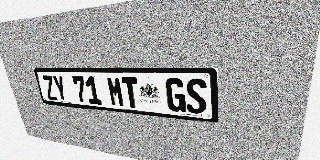1: (84, 76, 102, 105)
7: (71, 76, 89, 104)
G: (165, 78, 186, 113)
M: (106, 77, 125, 107)
S: (185, 78, 207, 115)
T: (121, 77, 140, 108)
Y: (52, 76, 69, 102)
Z: (42, 76, 58, 101)
